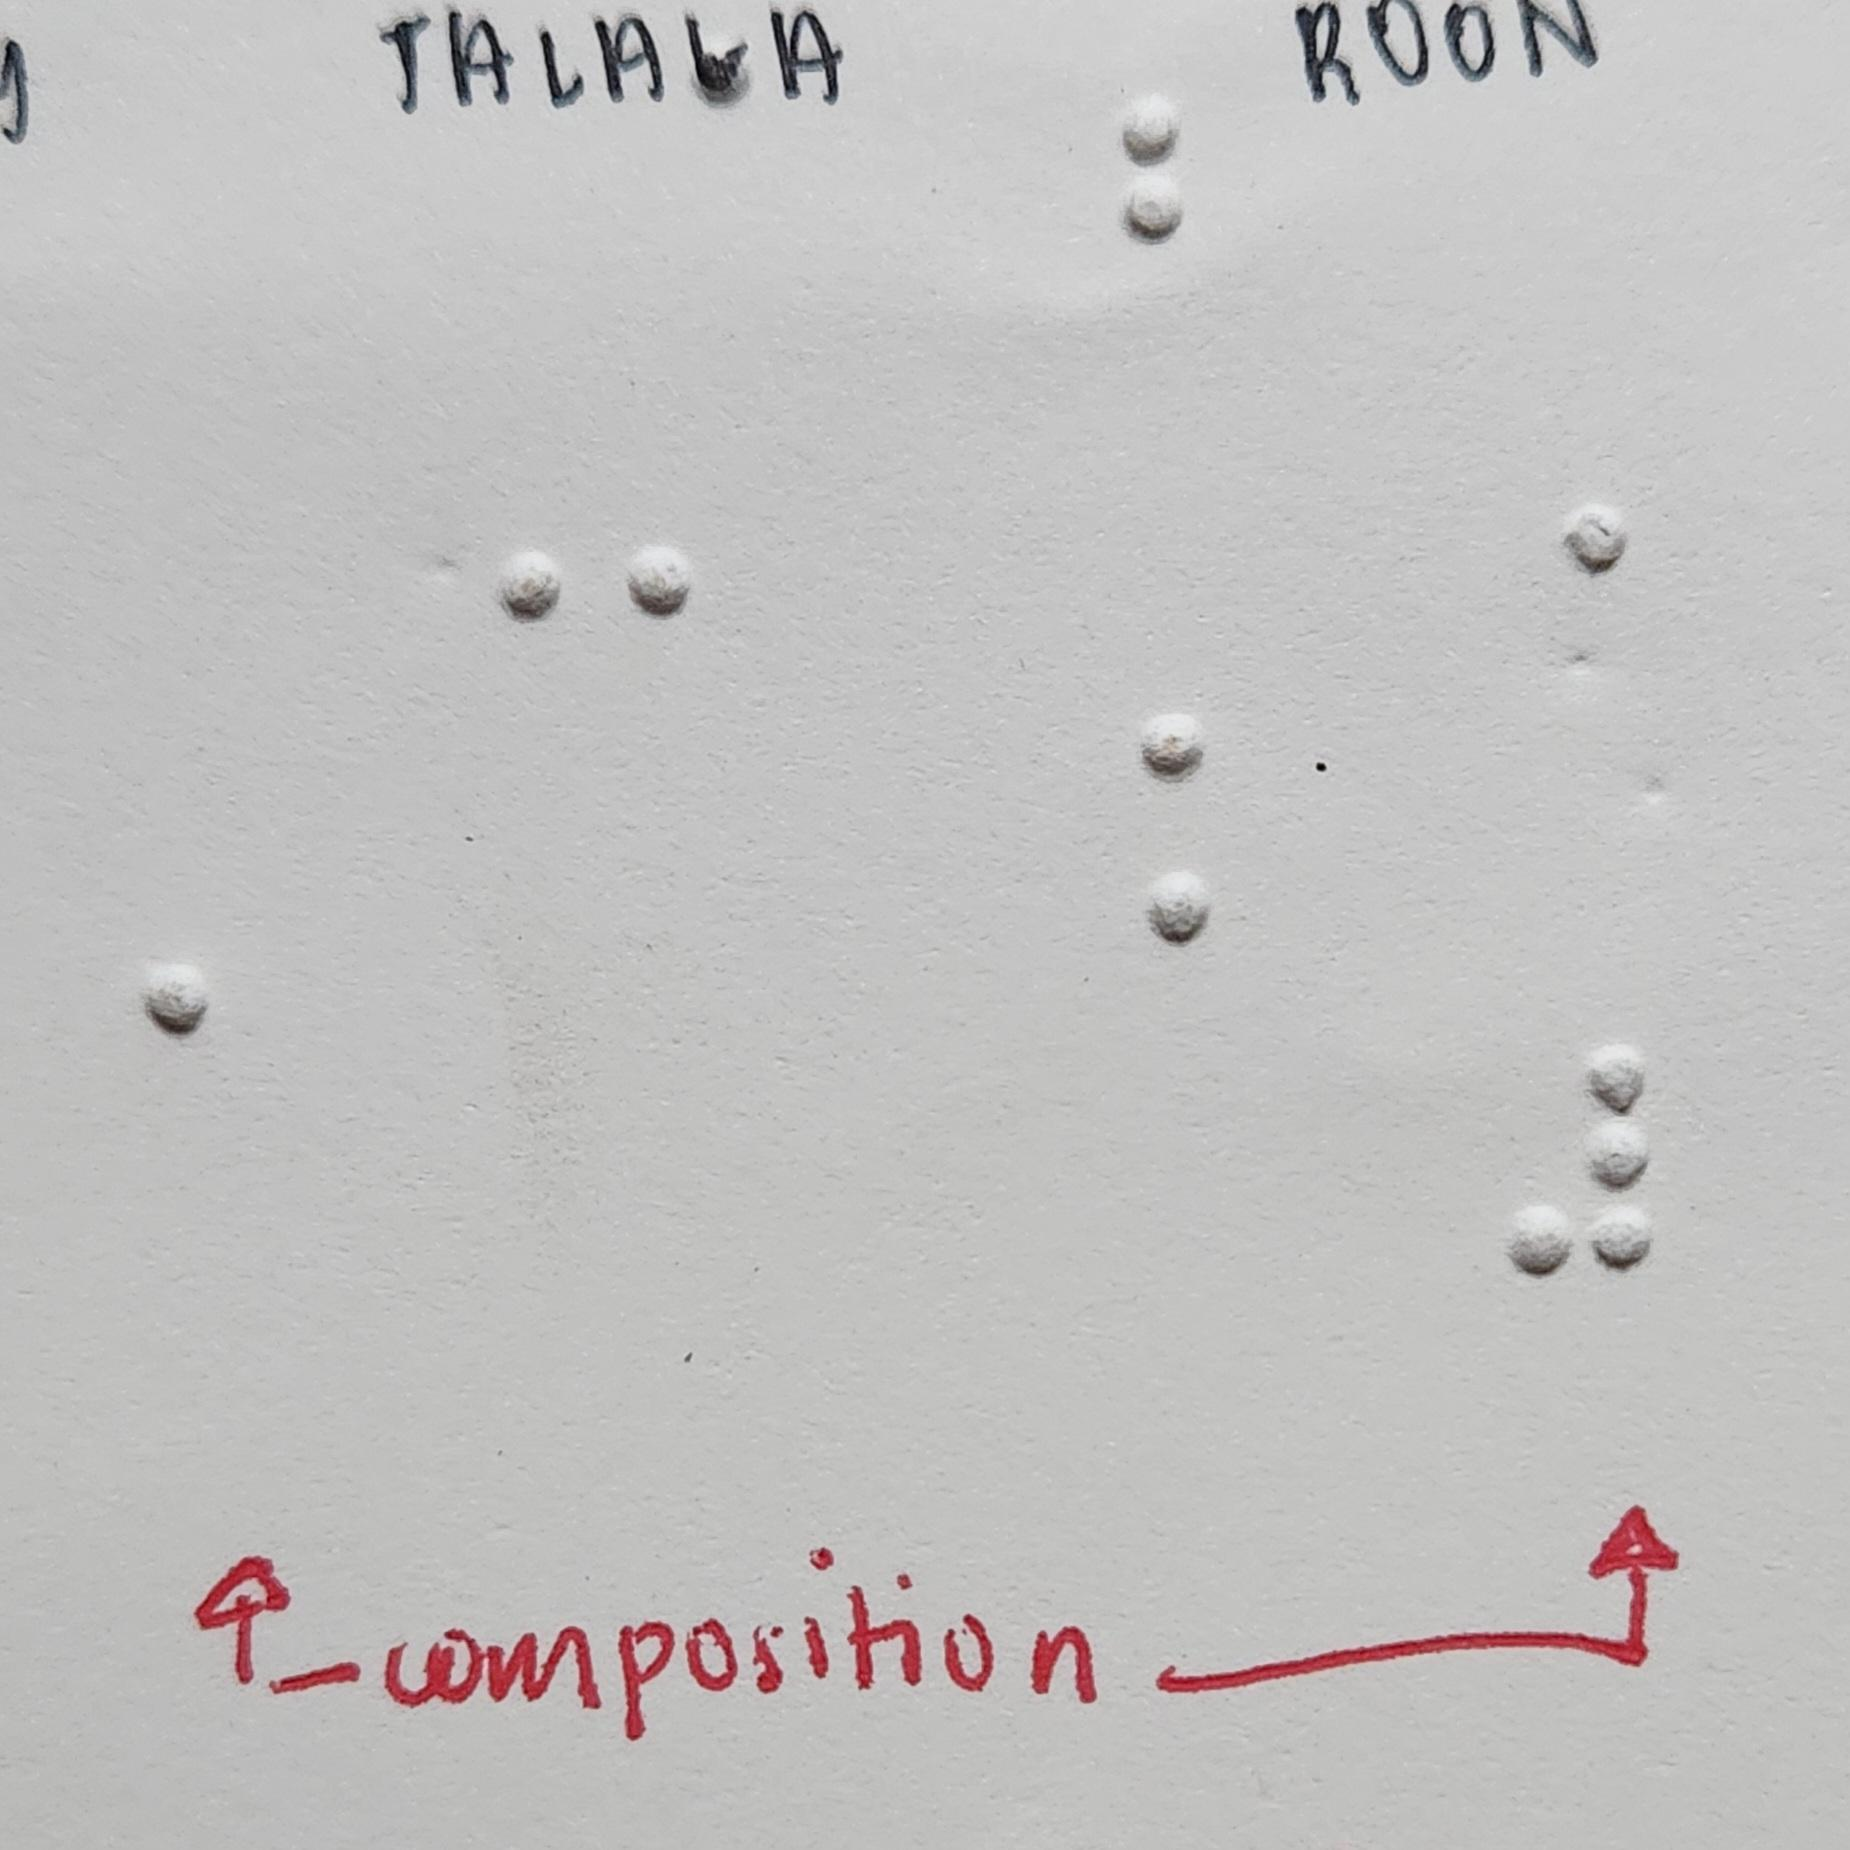capital_sign: (56, 820, 208, 1044)
number_sign: (1503, 1052, 1655, 1276)
